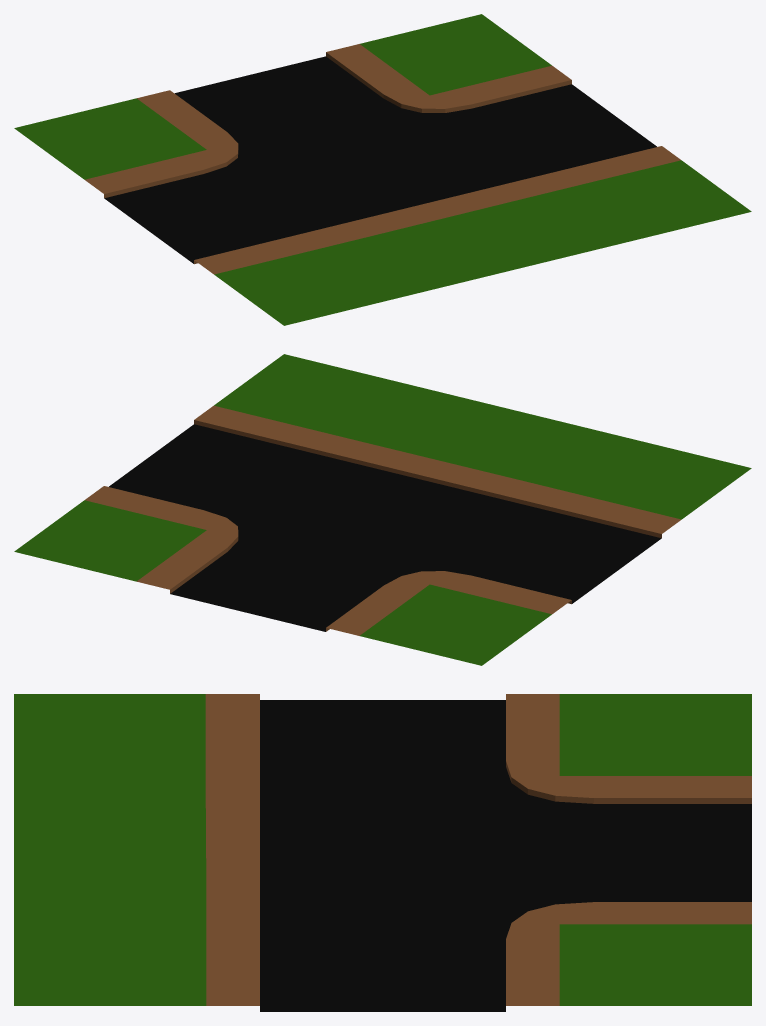
The model's file is Strada_T.FBX.
3 renders of one model, top to bottom at view 1: azimuth 30°, elevation 25°; view 2: azimuth 150°, elevation 25°; view 3: azimuth 270°, elevation 25°, orthographic. The views are drawn at different scales.
Parts seen in each view (by area): view 1: Object017; view 2: Object017; view 3: Object017.
Part boxes in pixels (box(x1,y1,x2,y2)): Object017: box(14, 14, 751, 325); Object017: box(14, 354, 751, 665); Object017: box(14, 694, 751, 1011).
Bounding box in the file's own units: 2100 × 18.16 × 2100.
